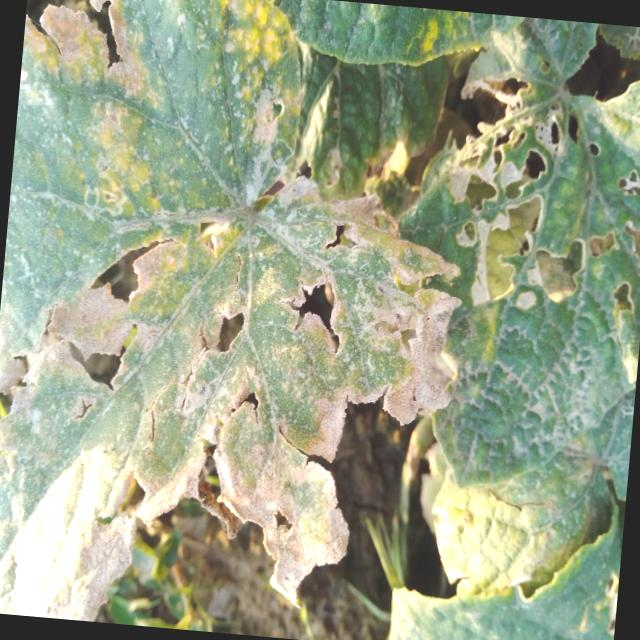cucumber_anthracnose: (0, 0, 469, 570), (437, 36, 640, 492)
